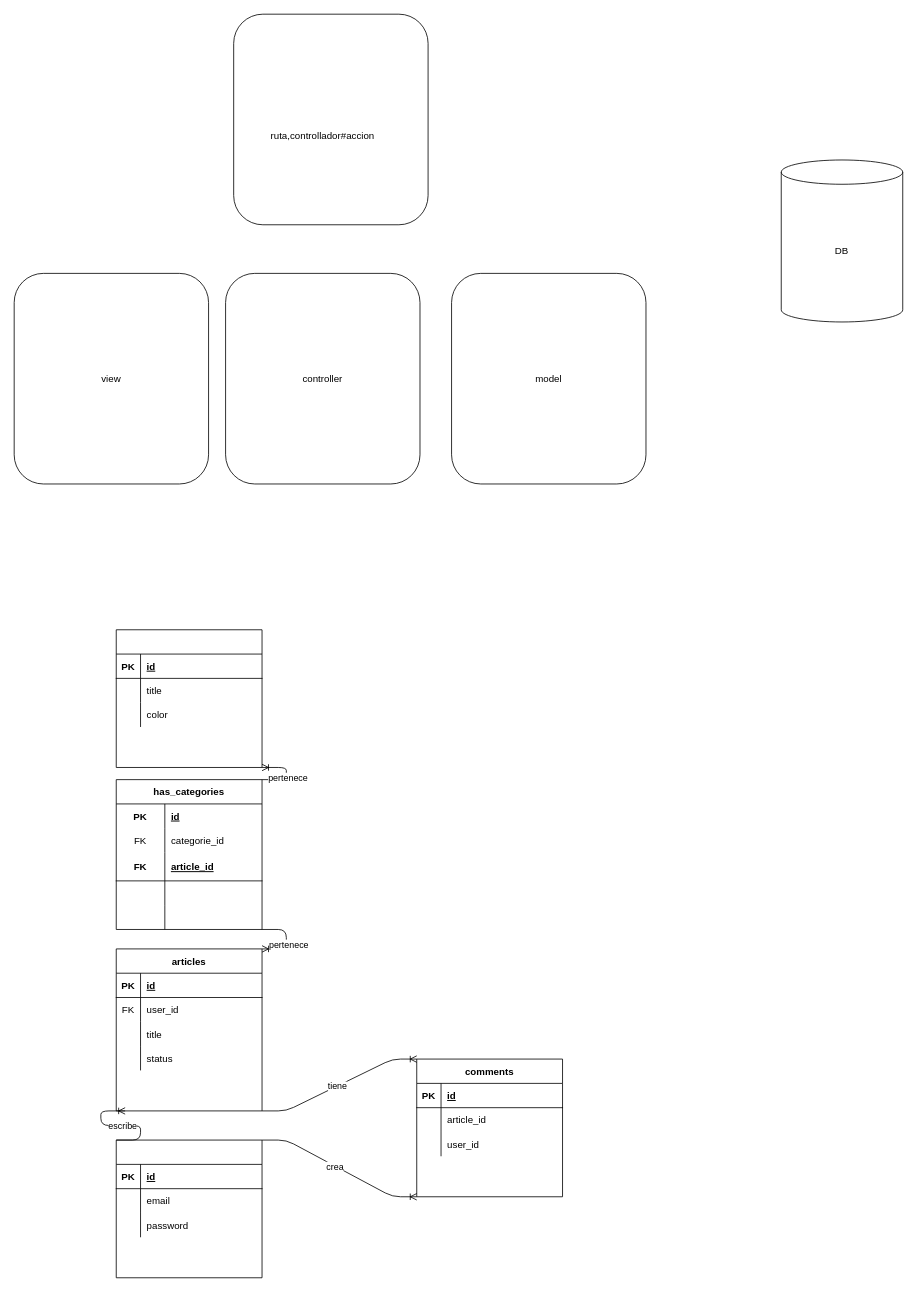
Image size: 917x1292. Some labels were removed from this diagram. Here are the shapes that lost their labels. From the top down, the box of each, then its label:
(233, 13, 428, 225): routes.rb
(115, 629, 262, 767): categories
(115, 1139, 262, 1278): users
